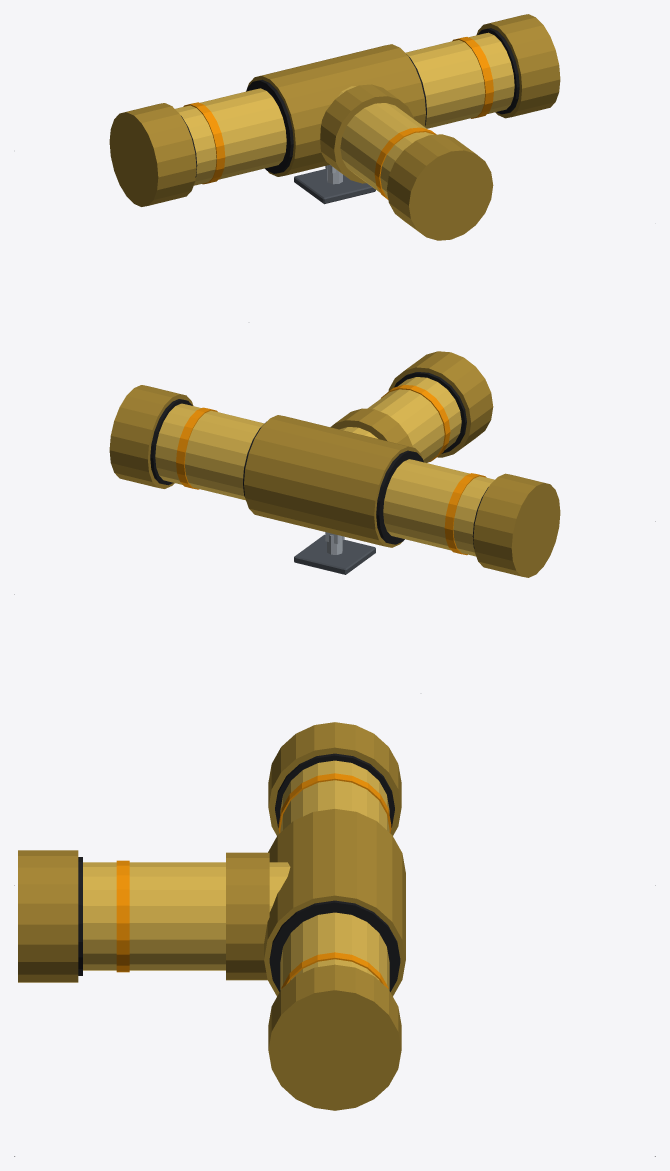
File: tuyau_te_t2.glb
3 views of the same model, one above another, from view 1: azimuth 30°, elevation 25°; view 2: azimuth 150°, elevation 25°; view 3: azimuth 270°, elevation 25° (orthographic). The views are drawn at different scales.
Visible parts, largest first — view 1: pieces_laiton_sombre.014, pieces_laiton.014, pieces_rive_t2.016, pieces_noir.022, pieces_acier_sombre.050; view 2: pieces_laiton_sombre.014, pieces_laiton.014, pieces_noir.022, pieces_rive_t2.016, pieces_acier_sombre.050; view 3: pieces_laiton_sombre.014, pieces_laiton.014, pieces_noir.022, pieces_rive_t2.016.
Part boxes in pixels (x1,y1,x2,y2): pieces_laiton_sombre.014: (109, 14, 560, 240); pieces_laiton.014: (175, 32, 514, 197); pieces_rive_t2.016: (183, 37, 493, 199); pieces_noir.022: (181, 28, 519, 177); pieces_acier_sombre.050: (294, 169, 375, 204); pieces_laiton_sombre.014: (109, 351, 560, 577); pieces_laiton.014: (155, 377, 494, 556); pieces_noir.022: (150, 372, 488, 548); pieces_rive_t2.016: (176, 384, 486, 555); pieces_acier_sombre.050: (294, 534, 375, 574); pieces_laiton_sombre.014: (18, 722, 405, 1110); pieces_laiton.014: (83, 760, 389, 990); pieces_noir.022: (78, 753, 400, 991); pieces_rive_t2.016: (116, 773, 391, 988).
Bounding box in the file's own units: 1 × 0.2905 × 1.
